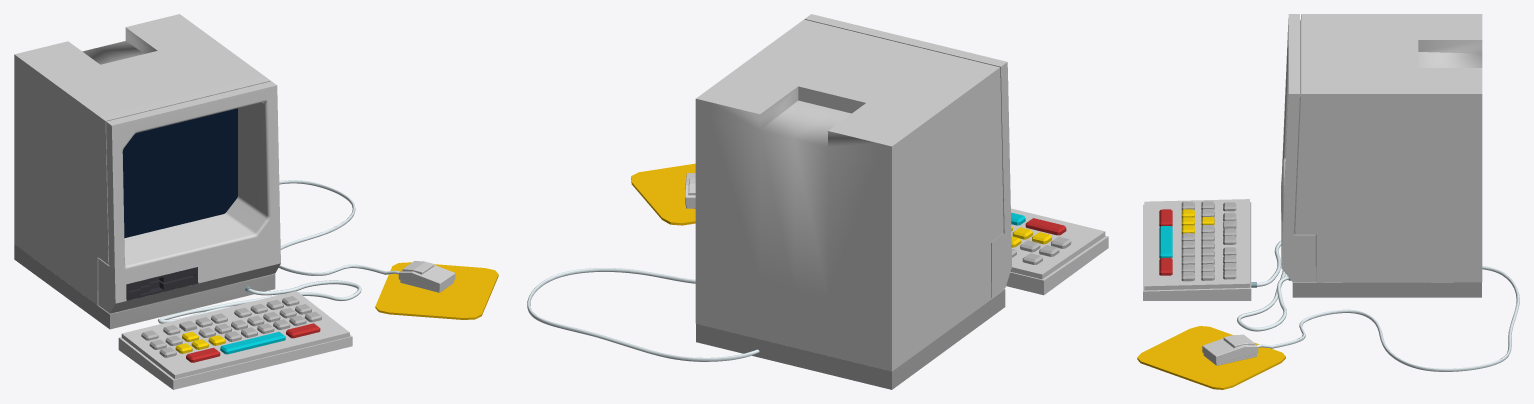
File: mac-transformed.glb
The picture shows the model from 3 angles, left to right: view 1: azimuth 30°, elevation 25°; view 2: azimuth 150°, elevation 25°; view 3: azimuth 270°, elevation 25°; orthographic projection. The views are drawn at different scales.
Visible parts, largest first — view 1: Object_10, Object_2, Object_9, Object_7, Object_5, Object_11, Object_8, Object_3, Object_4, Object_6, Object_13; view 2: Object_10, Object_9, Object_7, Object_3, Object_5; view 3: Object_10, Object_7, Object_9, Object_5, Object_3, Object_11, Object_6, Object_13, Object_4.
Part boxes in pixels (<box>): Object_10: <box>14,14,455,389</box>; Object_2: <box>122,108,237,238</box>; Object_9: <box>14,81,275,329</box>; Object_7: <box>375,262,498,319</box>; Object_5: <box>108,241,321,357</box>; Object_11: <box>158,280,361,323</box>; Object_8: <box>126,267,198,300</box>; Object_3: <box>278,180,399,275</box>; Object_4: <box>220,331,285,354</box>; Object_6: <box>186,323,320,362</box>; Object_13: <box>175,331,225,353</box>; Object_10: <box>685,14,1108,371</box>; Object_9: <box>696,19,1005,389</box>; Object_7: <box>631,163,695,225</box>; Object_3: <box>527,268,759,361</box>; Object_5: <box>1011,236,1071,264</box>; Object_10: <box>1143,14,1482,365</box>; Object_7: <box>1137,326,1285,389</box>; Object_9: <box>1292,15,1481,297</box>; Object_5: <box>1181,201,1453,282</box>; Object_3: <box>1256,266,1519,371</box>; Object_11: <box>1237,240,1288,331</box>; Object_6: <box>1159,209,1172,275</box>; Object_13: <box>1181,209,1214,233</box>; Object_4: <box>1159,226,1172,258</box>.
Bounding box in the file's own units: 8.53 × 4.68 × 7.86.
